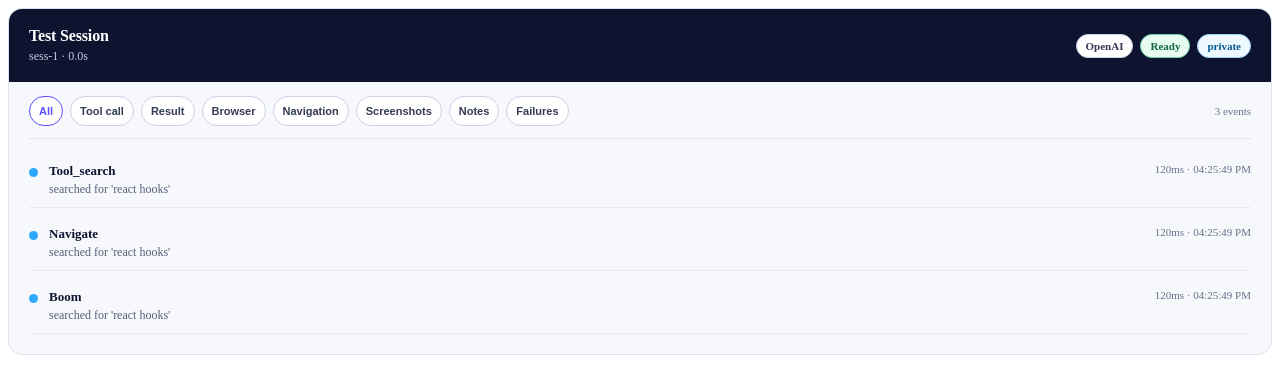
Scenario: AgentSession › filters entries by kind when a filter chip is clicked
This screenshot has width=1280, height=372.
Expected: the text "tool_search" is shown, x1=49 y1=163 x2=116 y2=178
Expected: the text "navigate" is shown, x1=49 y1=226 x2=98 y2=241
Click the button "Tool call". click: (102, 111)
box: x1=70 y1=96 x2=134 y2=126
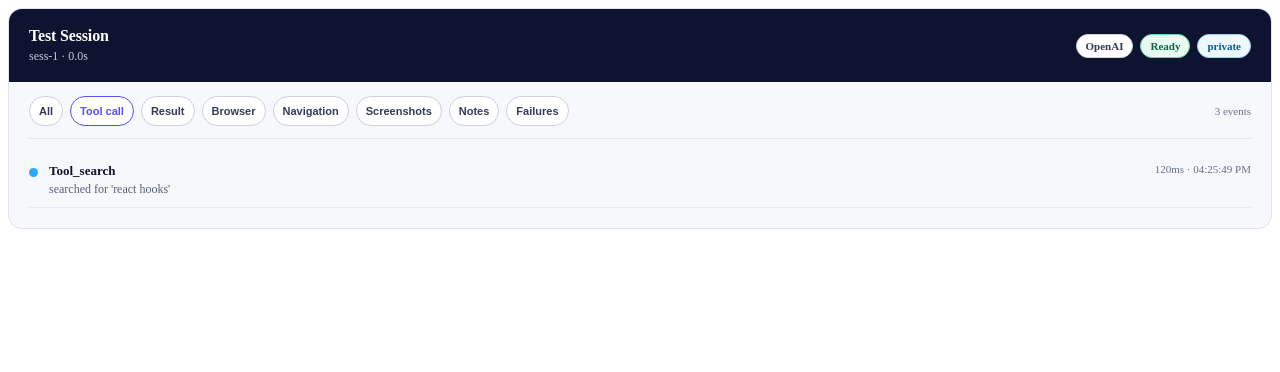
Expected: the text "tool_search" is shown, x1=49 y1=163 x2=116 y2=178
Result: the text "navigate" is gone
Result: the text "boom" is gone
